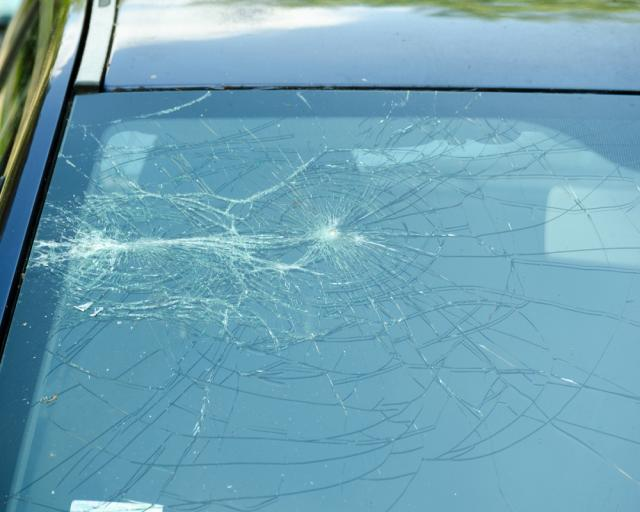glass shatter: (0, 89, 640, 512)
